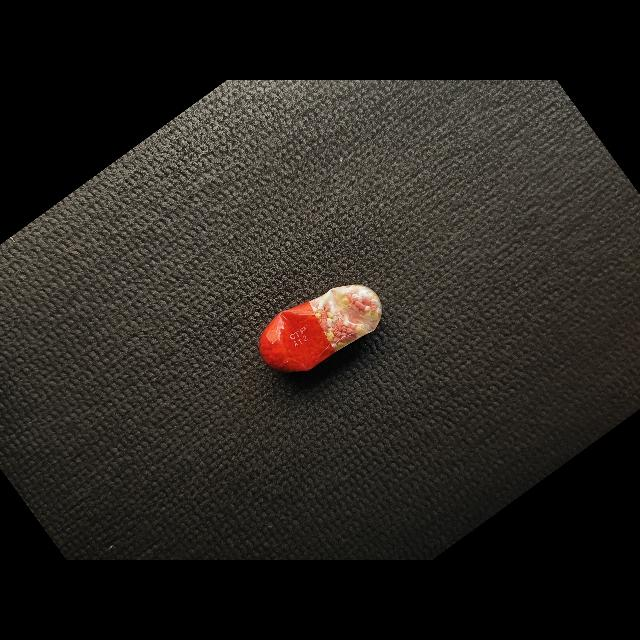Defective Capsule: (259, 284, 382, 372)
